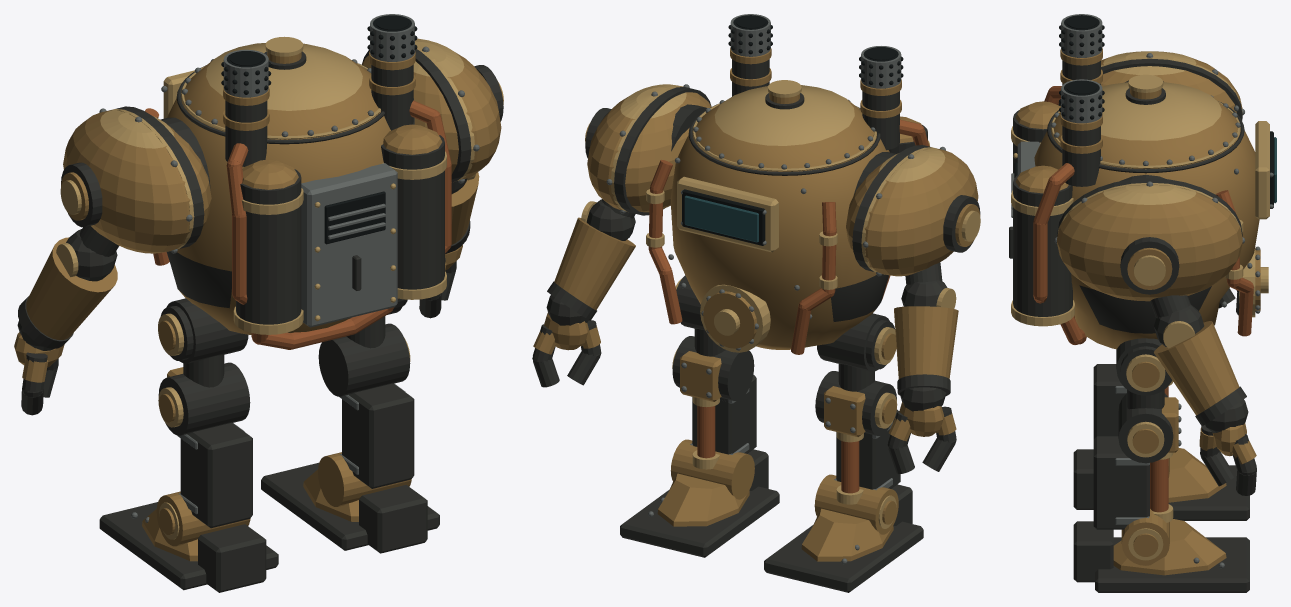
3 renders of one model, left to right at view 1: azimuth 30°, elevation 25°; view 2: azimuth 150°, elevation 25°; view 3: azimuth 270°, elevation 25°, orthographic. The views are drawn at different scales.
Size of the model in its own units: 3.59 by 3.99 by 2.01.
